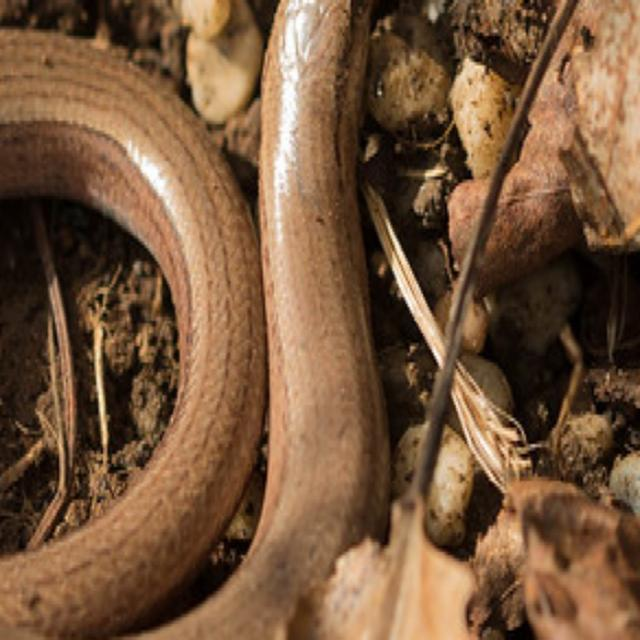Snake: (1, 0, 394, 640)
